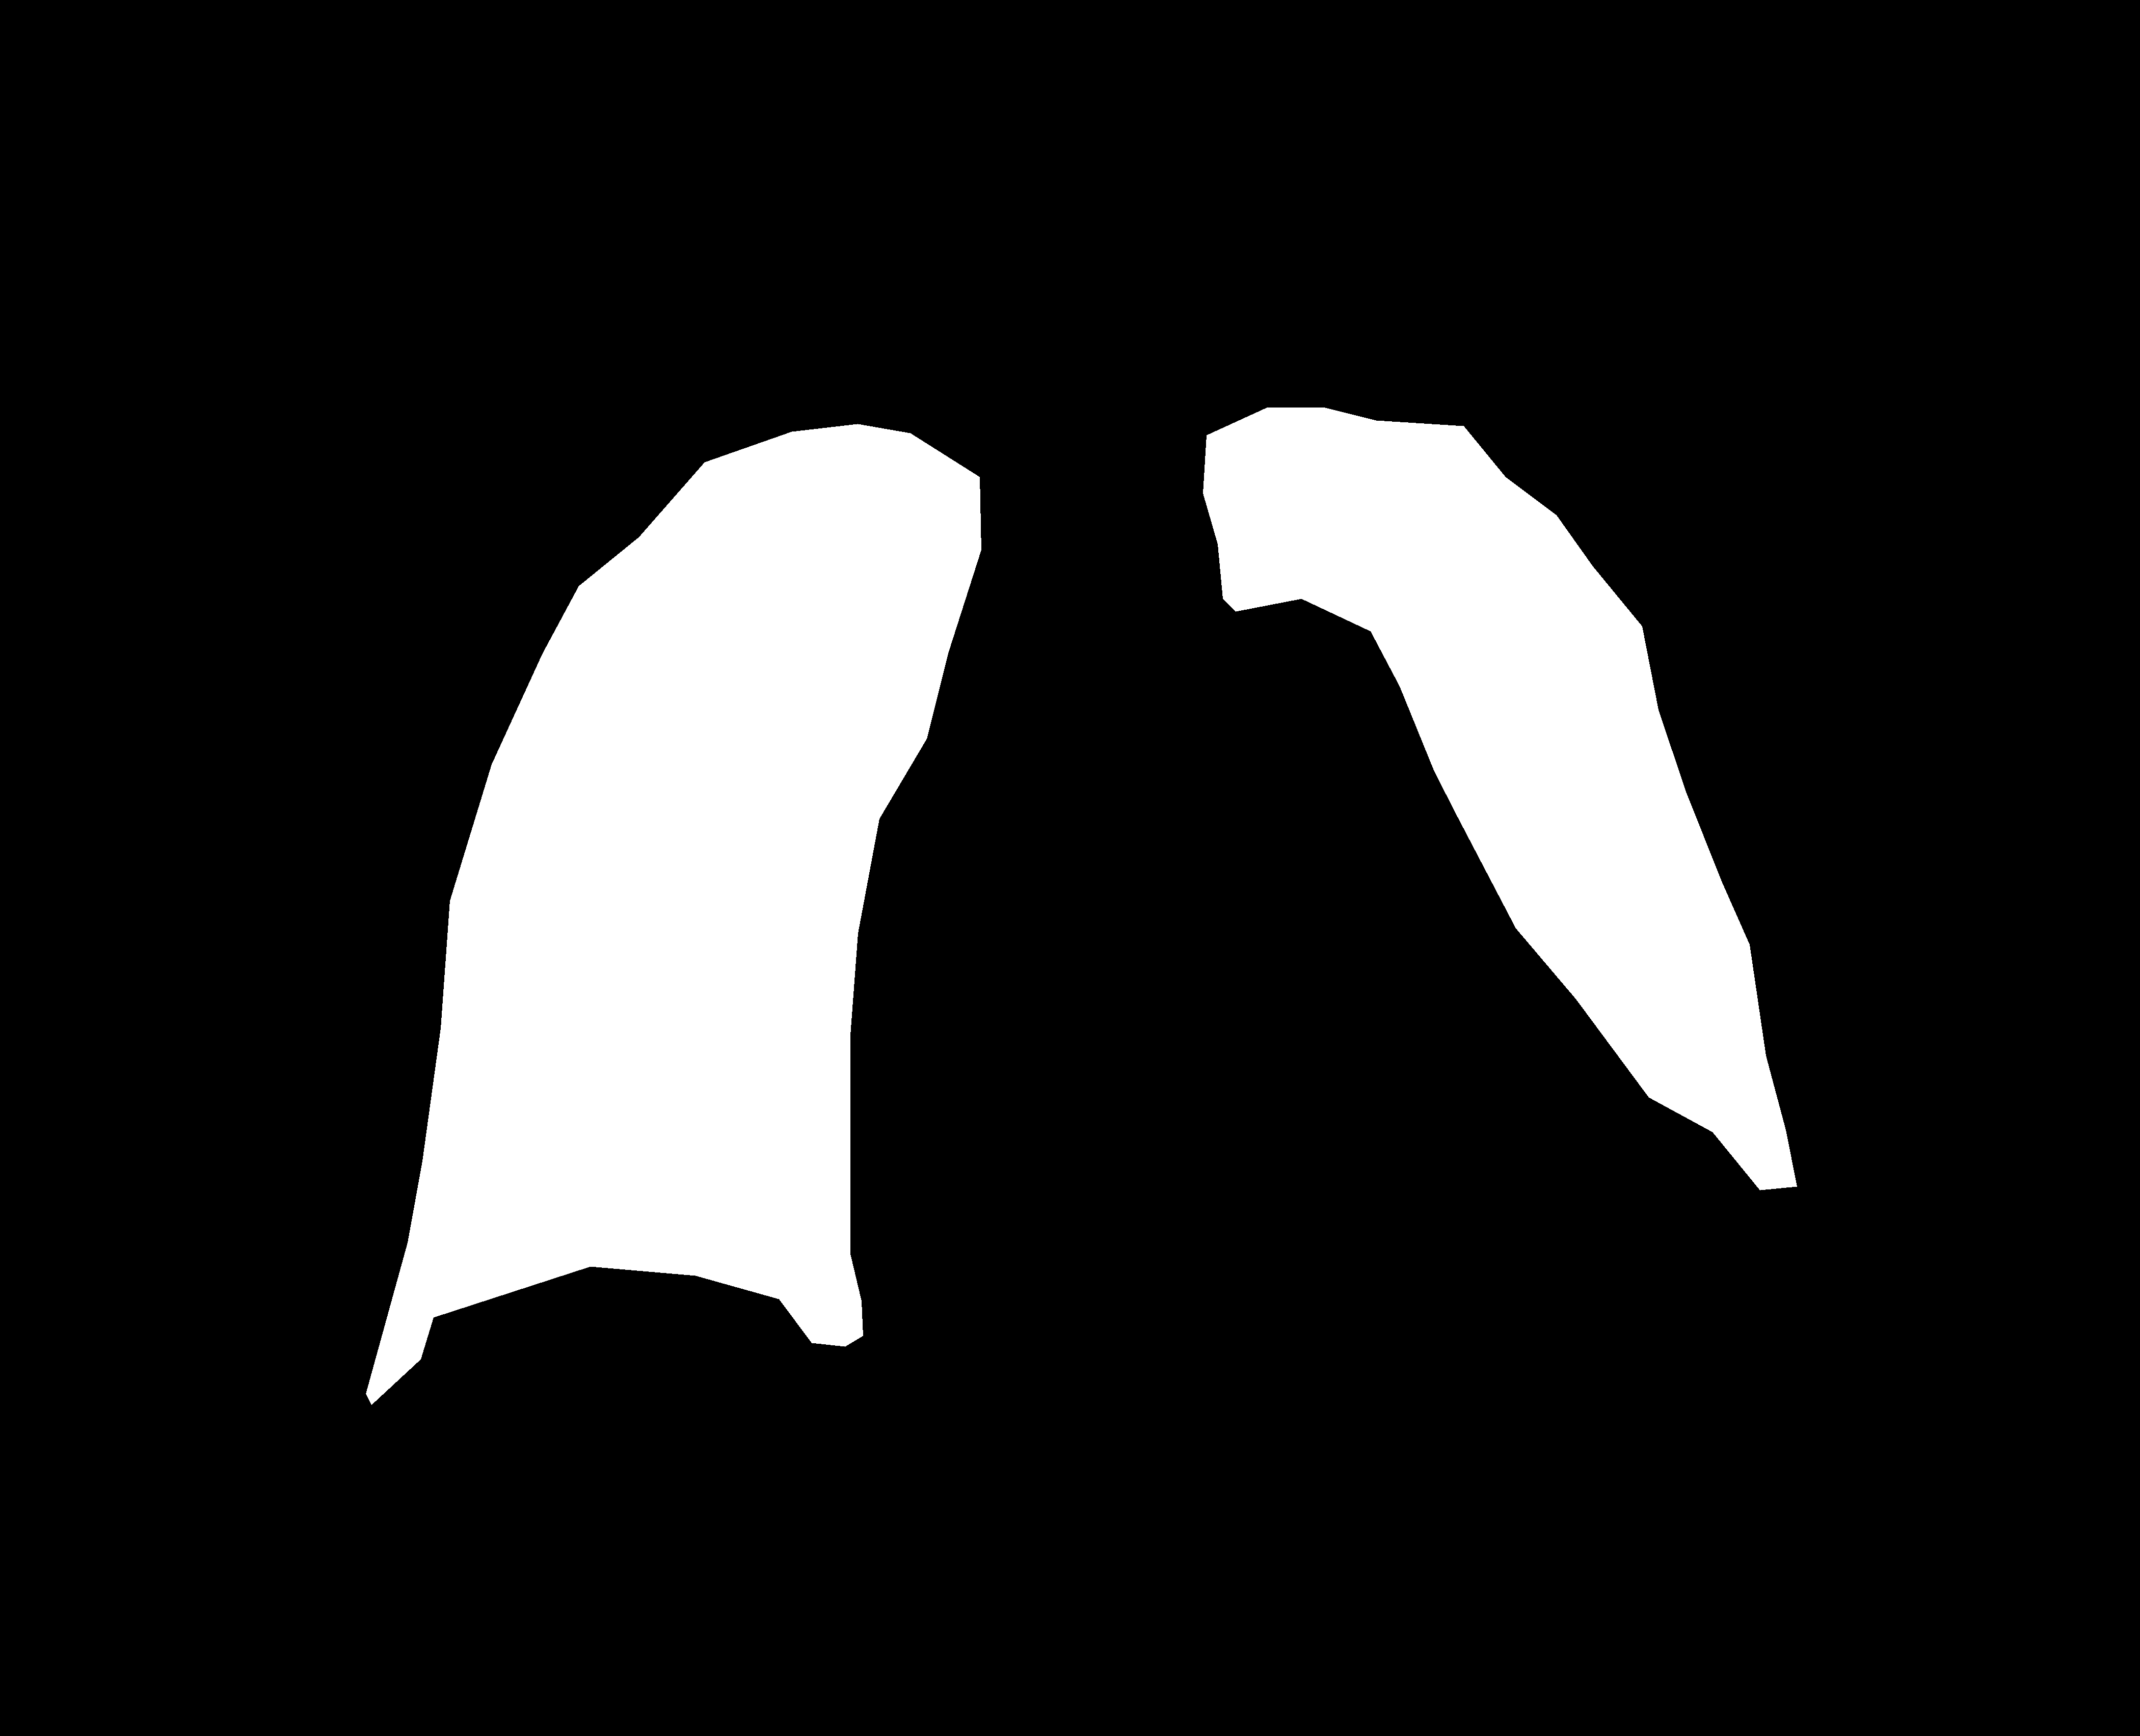heart: (847, 739, 1835, 1410)
left_lung: (367, 423, 981, 1405)
right_lung: (1203, 407, 1796, 1190)
